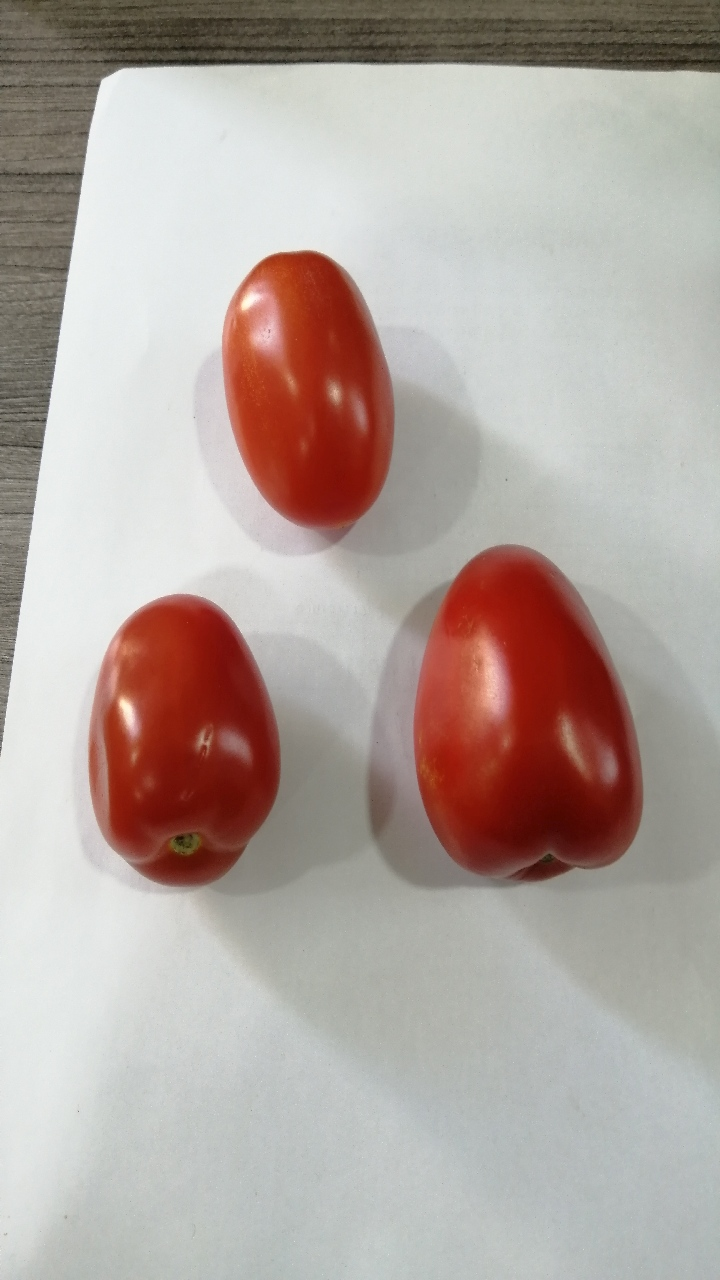tomateRojo: (403, 532, 666, 902), (48, 577, 283, 895), (195, 235, 401, 545)
